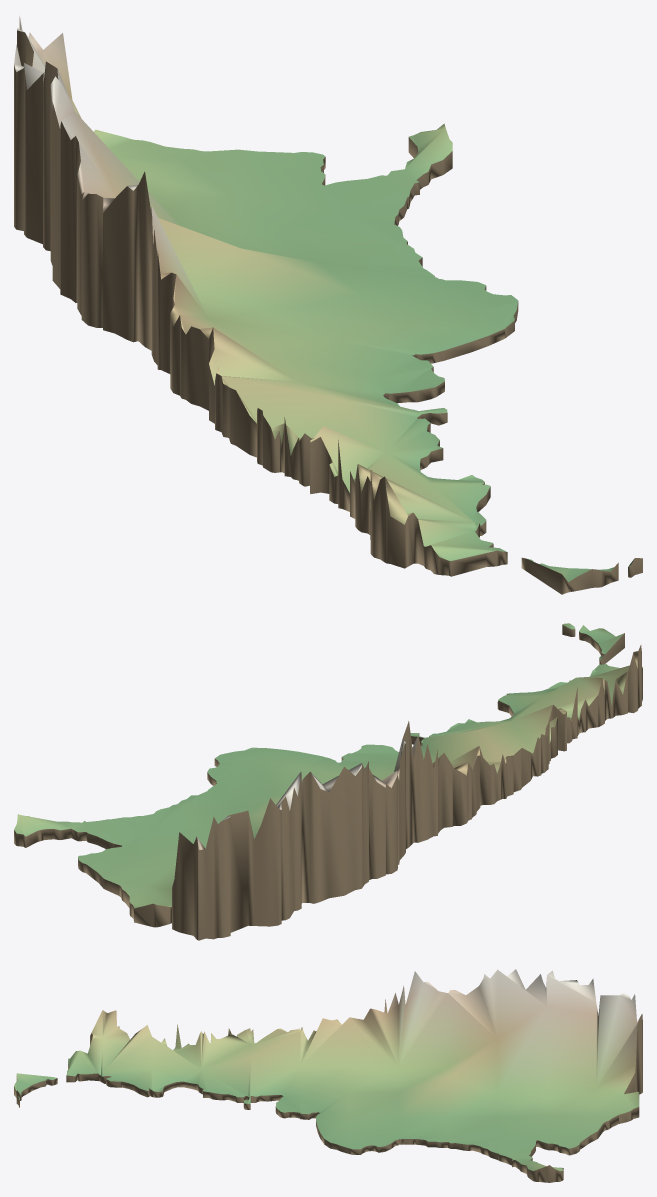
File: ARG.glb
3 views of the same model, one above another, from view 1: azimuth 30°, elevation 25°; view 2: azimuth 150°, elevation 25°; view 3: azimuth 270°, elevation 25° (orthographic). The views are drawn at different scales.
Visible parts, largest first — view 1: ARG; view 2: ARG; view 3: ARG.
Part boxes in pixels (left/top/right/bottom): ARG: left=14, top=16, right=642, bottom=594; ARG: left=14, top=623, right=642, bottom=940; ARG: left=14, top=969, right=642, bottom=1182.
Size of the model in its own units: 0.8688 by 0.338 by 1.83.
